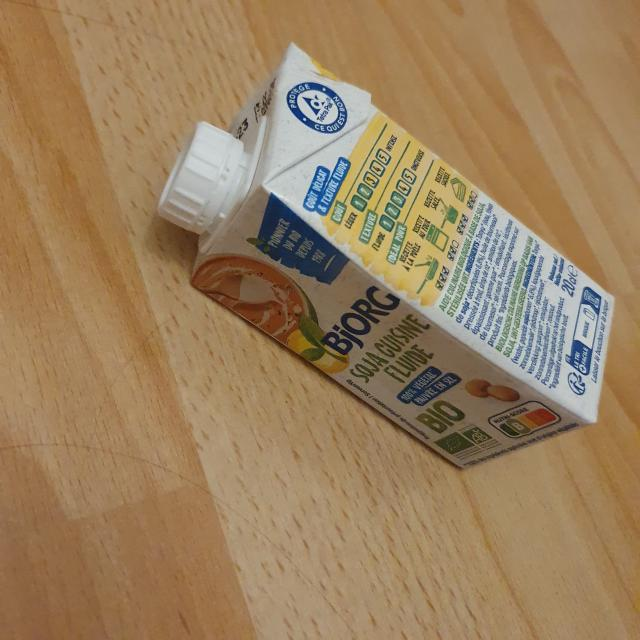PaperCardboard: (148, 36, 631, 476)
